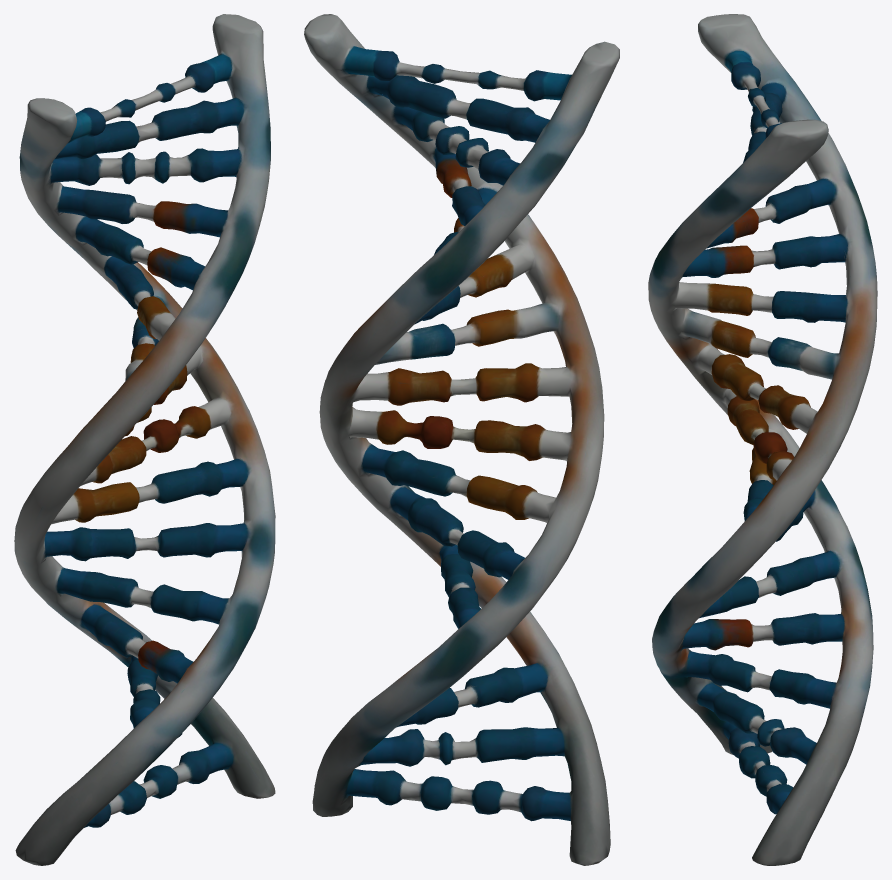
Rendered from cag-repeat-dna.glb.
3 renders of one model, left to right at view 1: azimuth 30°, elevation 25°; view 2: azimuth 150°, elevation 25°; view 3: azimuth 270°, elevation 25°, orthographic. The views are drawn at different scales.
Parts seen in each view (by area): view 1: world; view 2: world; view 3: world.
Boxes of the visible parts, left/top/right/bottom form: world: left=14, top=14, right=275, bottom=865; world: left=304, top=14, right=619, bottom=865; world: left=648, top=14, right=877, bottom=865.
Bounding box in the file's own units: 0.3635 × 1 × 0.2846.
Materials: 1 (1 with a texture image).
